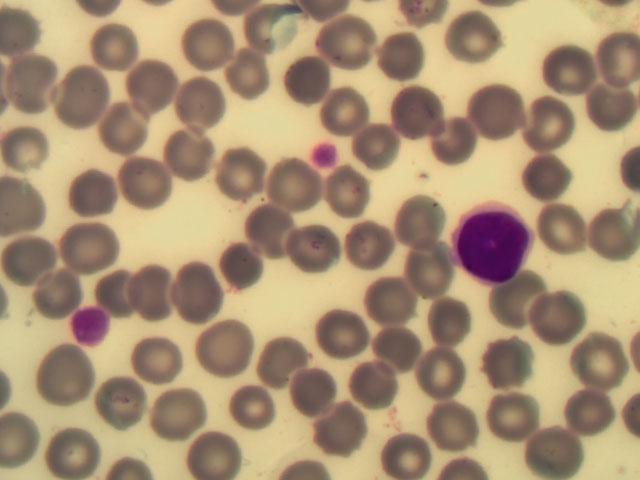Platelets: (71, 306, 107, 343), (309, 138, 342, 168)
RBC: (44, 422, 106, 480), (55, 64, 113, 122), (8, 53, 66, 111), (90, 18, 148, 76), (119, 56, 177, 114), (103, 96, 161, 154), (169, 77, 227, 135), (178, 16, 236, 74), (208, 46, 266, 104), (164, 121, 222, 179), (117, 153, 175, 211), (66, 164, 124, 222), (5, 225, 63, 283), (22, 263, 80, 321), (64, 217, 122, 275), (86, 273, 144, 331), (127, 262, 185, 320), (180, 271, 238, 329), (200, 240, 258, 298), (246, 208, 304, 266), (270, 156, 328, 214), (210, 138, 268, 196), (328, 168, 386, 226), (294, 220, 352, 278), (353, 214, 411, 272), (396, 190, 454, 248), (397, 240, 455, 298), (356, 121, 414, 179), (320, 84, 378, 142), (290, 63, 348, 121), (310, 17, 368, 75), (381, 28, 439, 86), (449, 10, 507, 68), (392, 80, 450, 138), (427, 115, 485, 173), (471, 74, 529, 132), (516, 91, 574, 149), (535, 40, 593, 98), (582, 24, 640, 82), (582, 84, 640, 142), (519, 146, 577, 204), (534, 200, 592, 258), (582, 203, 640, 261), (537, 291, 595, 349), (490, 272, 548, 330), (427, 297, 485, 355), (359, 272, 417, 330), (373, 307, 431, 365), (317, 303, 375, 361), (288, 357, 346, 415), (257, 331, 315, 389), (231, 372, 289, 430), (200, 321, 258, 379), (136, 332, 194, 390), (100, 364, 158, 422), (32, 343, 90, 401), (185, 422, 243, 480), (150, 380, 208, 438), (376, 422, 434, 480), (301, 400, 359, 458), (343, 361, 401, 419), (410, 347, 468, 405), (424, 398, 482, 456), (486, 391, 544, 449), (477, 335, 535, 393), (520, 422, 578, 480), (554, 383, 612, 441), (573, 328, 631, 386), (1, 118, 58, 176)
WBC: (451, 202, 531, 279)
